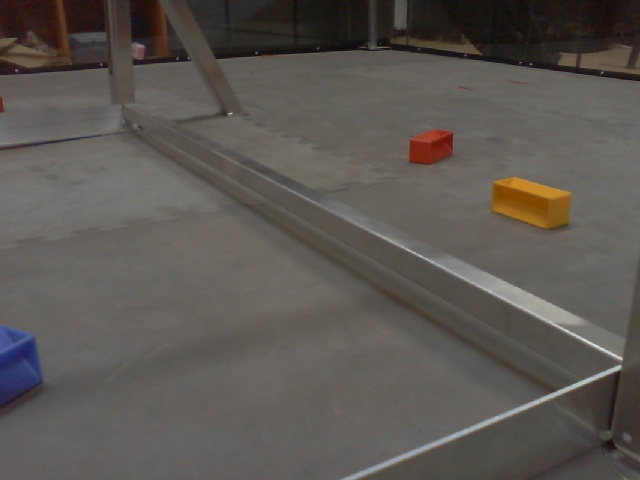BlueSample: (1, 317, 47, 410)
RedSample: (405, 128, 456, 167)
YellowSample: (487, 173, 574, 233)
